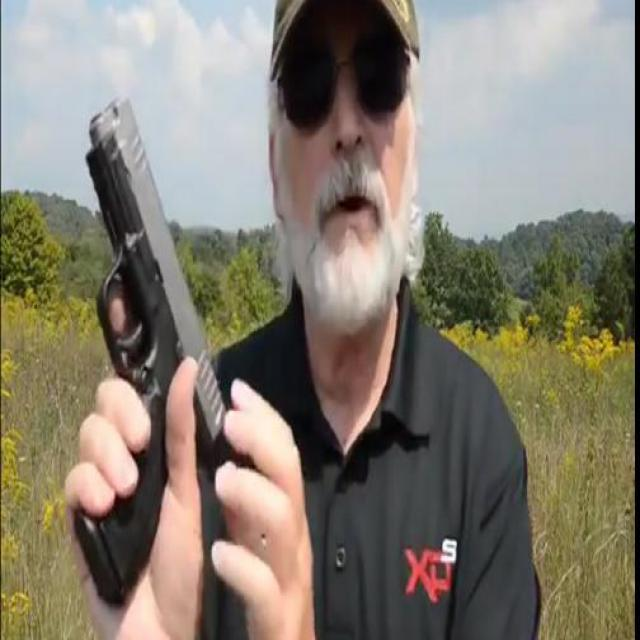gun: (57, 86, 248, 610)
